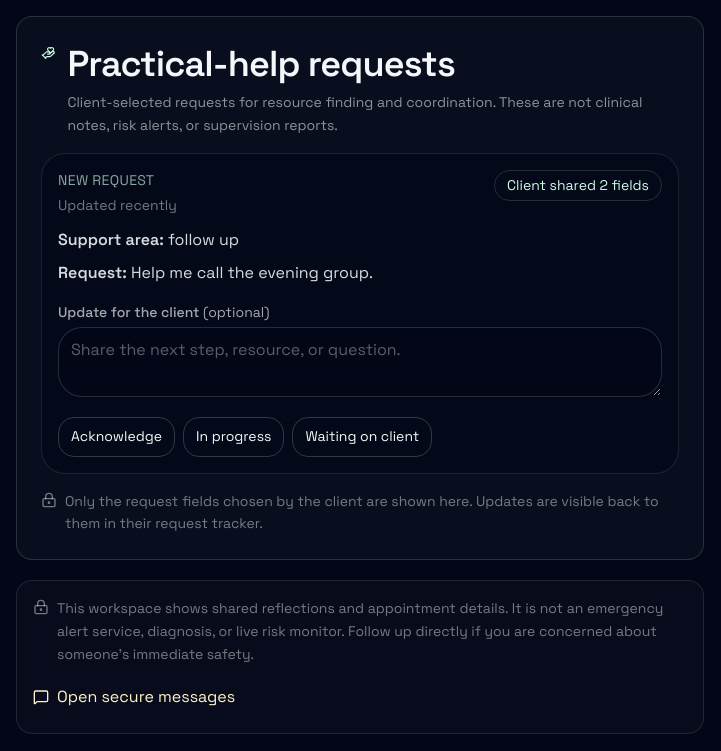
Test case: ClientDetailPage › shows only client-selected practical-help fields and confirms practitioner updates
(page scrolled)
Check: the text "Help me call the evening group." is shown, box [131,262,373,283]
Check: the text "Client shared 2 fields" is shown, box [494,170,662,201]
Click the button "Acknowledge".
click(116, 437)  # box [58,417,175,457]
(page scrolled)
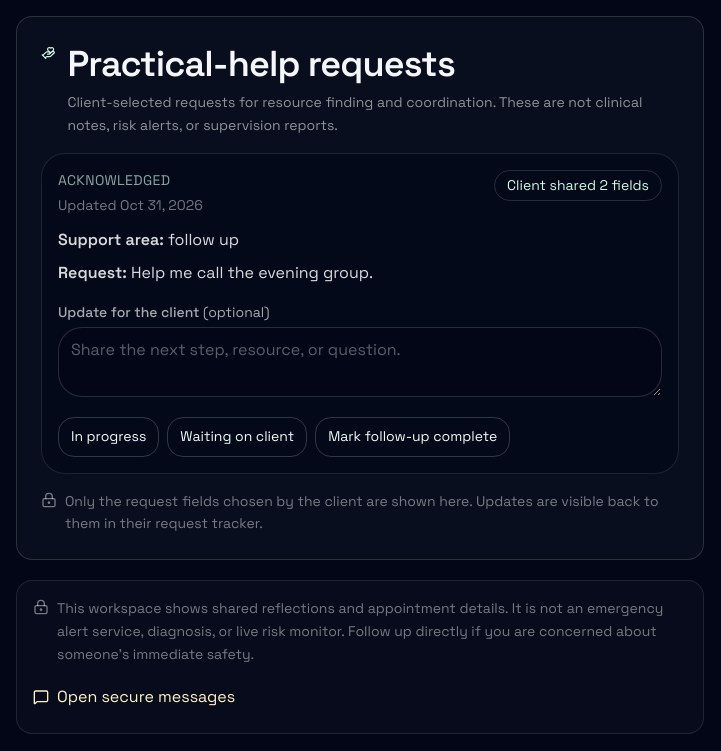
Check: the text "Acknowledged" is shown, box [58,171,170,189]
